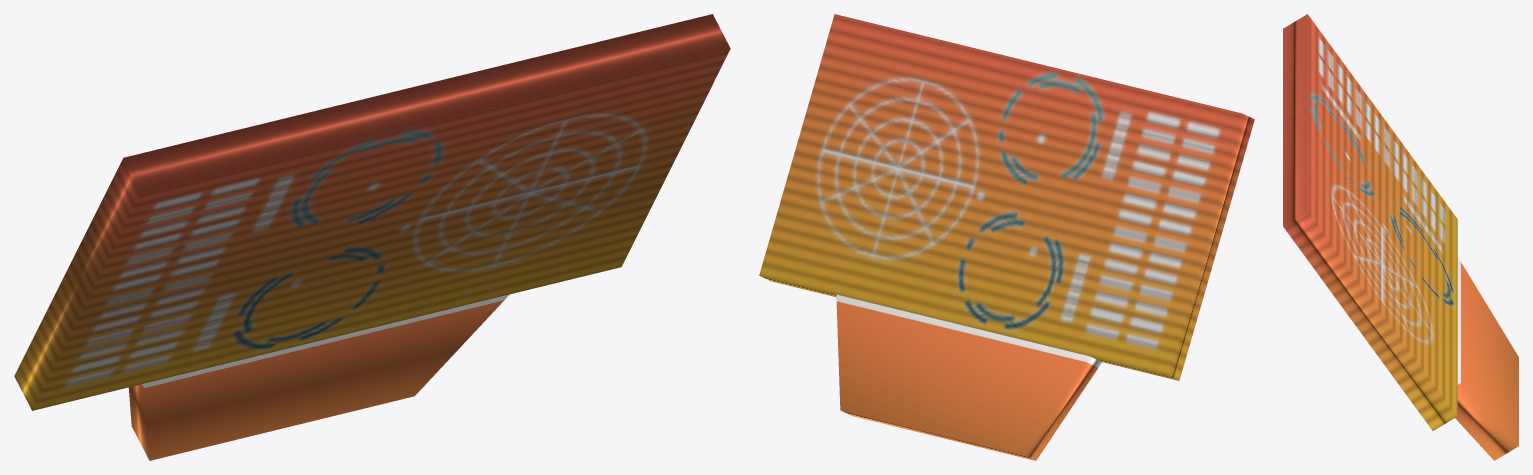
Rendered from Armchair_014_Part_03.fbx.
3 renders of one model, left to right at view 1: azimuth 30°, elevation 25°; view 2: azimuth 150°, elevation 25°; view 3: azimuth 270°, elevation 25°, orthographic. The views are drawn at different scales.
Parts seen in each view (by area): view 1: Armchair_014_Part_03; view 2: Armchair_014_Part_03; view 3: Armchair_014_Part_03.
Boxes of the visible parts, <box> form: Armchair_014_Part_03: <box>14,14,730,460</box>; Armchair_014_Part_03: <box>759,14,1254,460</box>; Armchair_014_Part_03: <box>1283,14,1518,460</box>.
Size of the model in its own units: 24.94 by 12.59 by 17.88.
